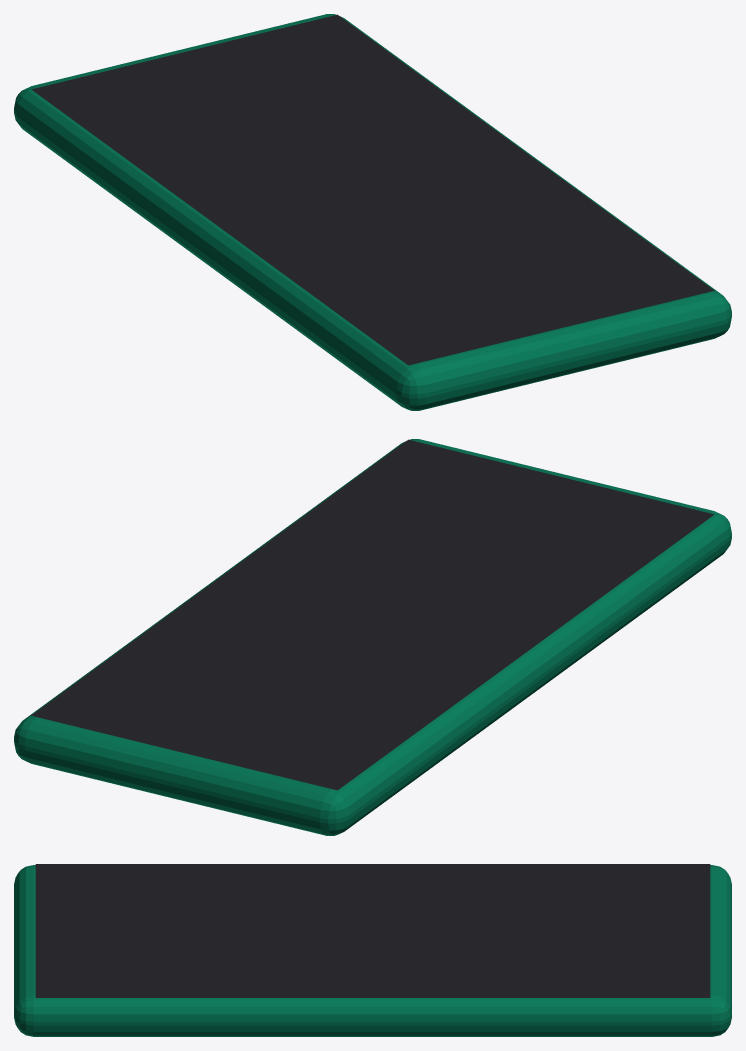
File: motorola-razr-model-165-flagship-2021.glb
The picture shows the model from 3 angles, top to bottom: view 1: azimuth 30°, elevation 25°; view 2: azimuth 150°, elevation 25°; view 3: azimuth 270°, elevation 25°; orthographic projection. The views are drawn at different scales.
Visible parts, largest first — view 1: Phone_Screen, Phone_Body; view 2: Phone_Screen, Phone_Body; view 3: Phone_Screen, Phone_Body.
Part boxes in pixels (<box>): Phone_Screen: <box>31,14,714,365</box>; Phone_Body: <box>14,14,731,410</box>; Phone_Screen: <box>31,439,714,790</box>; Phone_Body: <box>14,439,731,835</box>; Phone_Screen: <box>35,864,710,997</box>; Phone_Body: <box>14,865,731,1036</box>.
Bounding box in the file's own units: 0.0777 × 0.0099 × 0.1621.
